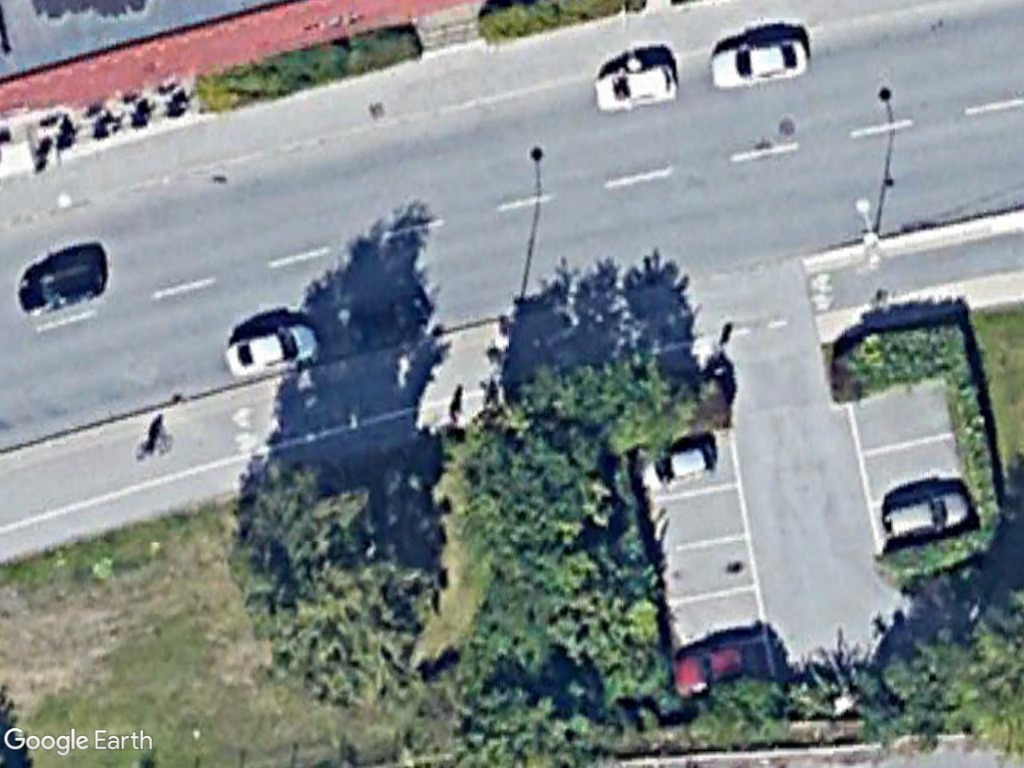car: (15, 247, 111, 320), (222, 316, 325, 382), (705, 35, 817, 94), (874, 488, 978, 550), (632, 439, 727, 494), (590, 58, 682, 114)
